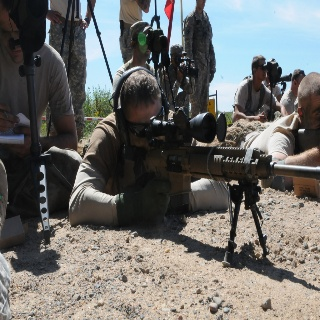rifle: (118, 110, 320, 270)
